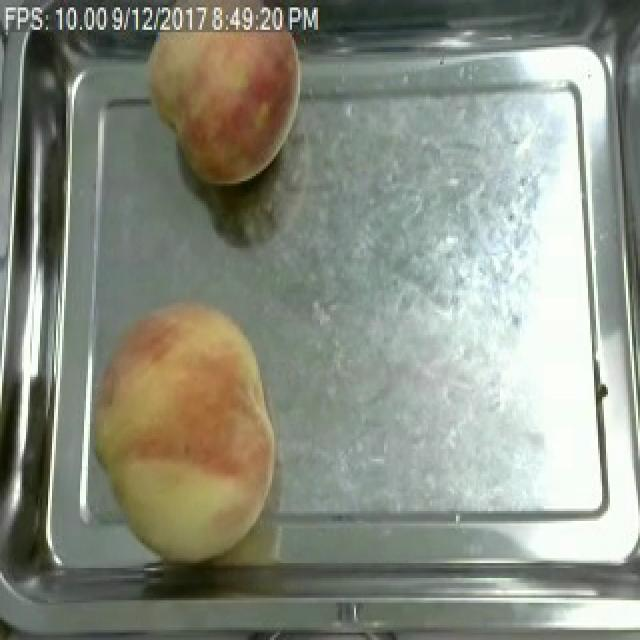Fruit: (76, 293, 286, 568), (136, 30, 312, 191)
